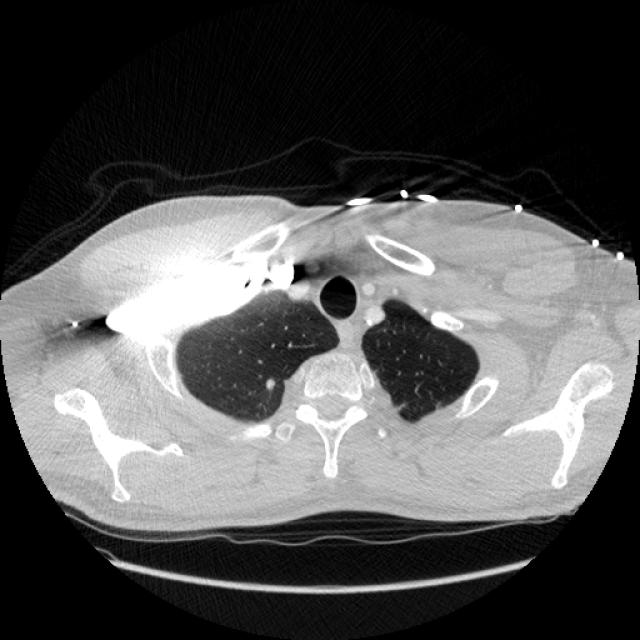nodule: (255, 370, 283, 398)
